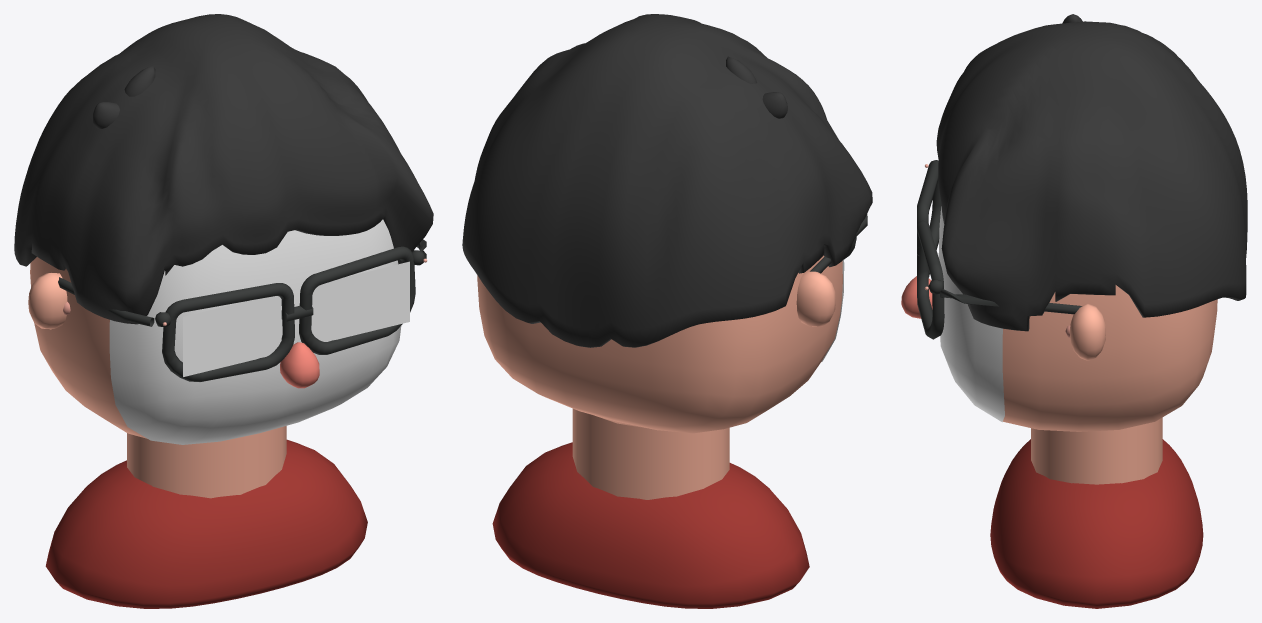
Rendered from jose.glb.
The picture shows the model from 3 angles, left to right: view 1: azimuth 30°, elevation 25°; view 2: azimuth 150°, elevation 25°; view 3: azimuth 270°, elevation 25°; orthographic projection. The views are drawn at different scales.
Visible parts, largest first — view 1: Hair, Shirt, FaceCanvas, Neck, Head, Lens.R, Lens.L, Frame.R, Frame.L, Ear.R, Nose, Cowlick.B (+2 smaller); view 2: Hair, Shirt, Head, Neck, Ear.R; view 3: Hair, Shirt, Head, Neck, FaceCanvas, Frame.L, Ear.L, Frame.R, Temple.L, Nose.
Boxes of the visible parts, x1=… form: Hair: x1=14, y1=14, x2=433, y2=324; Shirt: x1=45, y1=439, x2=367, y2=608; FaceCanvas: x1=109, y1=219, x2=401, y2=444; Neck: x1=127, y1=426, x2=286, y2=498; Head: x1=30, y1=257, x2=146, y2=438; Lens.R: x1=183, y1=296, x2=281, y2=376; Lens.L: x1=311, y1=261, x2=409, y2=341; Frame.R: x1=162, y1=283, x2=294, y2=381; Frame.L: x1=299, y1=246, x2=415, y2=354; Ear.R: x1=28, y1=273, x2=67, y2=329; Nose: x1=280, y1=342, x2=319, y2=388; Cowlick.B: x1=92, y1=102, x2=119, y2=128; Hair: x1=462, y1=14, x2=872, y2=347; Shirt: x1=492, y1=442, x2=809, y2=608; Head: x1=477, y1=255, x2=842, y2=433; Neck: x1=572, y1=408, x2=729, y2=499; Ear.R: x1=796, y1=271, x2=835, y2=326; Hair: x1=936, y1=21, x2=1247, y2=331; Shirt: x1=990, y1=439, x2=1203, y2=608; Head: x1=1002, y1=285, x2=1217, y2=431; Neck: x1=1031, y1=417, x2=1162, y2=484; FaceCanvas: x1=938, y1=206, x2=1004, y2=422; Frame.L: x1=917, y1=220, x2=944, y2=339; Ear.L: x1=1069, y1=303, x2=1105, y2=360; Frame.R: x1=917, y1=160, x2=941, y2=277; Temple.L: x1=940, y1=289, x2=1082, y2=314; Nose: x1=901, y1=276, x2=932, y2=318.
Bounding box in the file's own units: 1.36 × 1.9 × 1.17.
